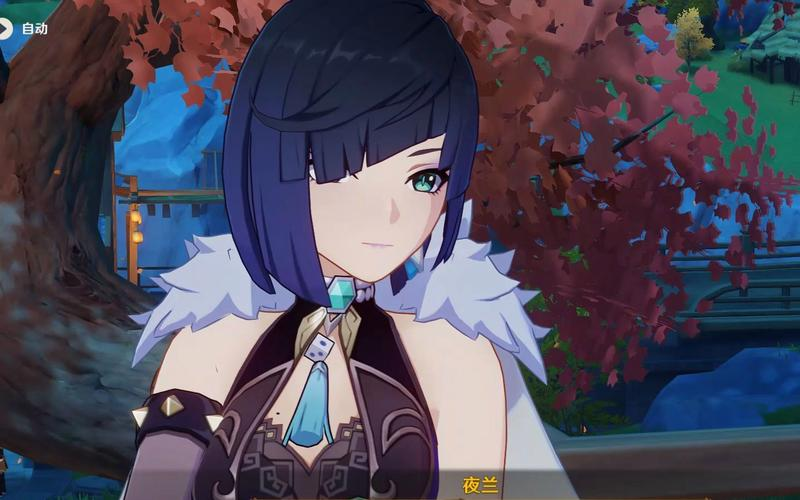夜兰: (120, 4, 512, 499)
